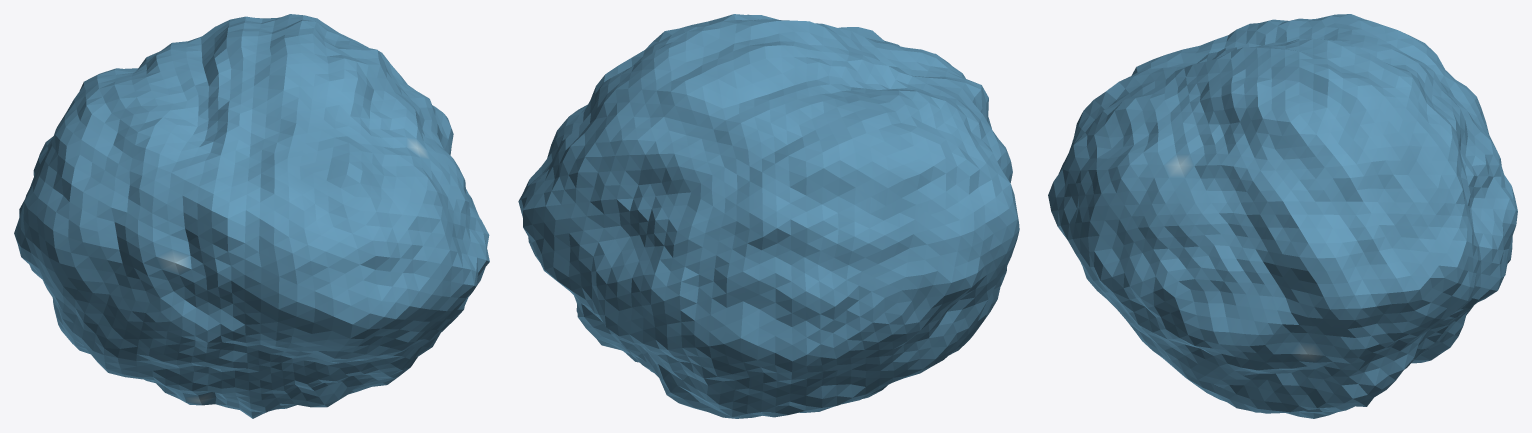
Rendered from egyptian-blue.glb.
3 renders of one model, left to right at view 1: azimuth 30°, elevation 25°; view 2: azimuth 150°, elevation 25°; view 3: azimuth 270°, elevation 25°, orthographic. The views are drawn at different scales.
Visible parts, largest first — view 1: geometry_0; view 2: geometry_0; view 3: geometry_0.
Boxes of the visible parts, x1,y1,x2,y2 form: geometry_0: (14, 14, 489, 418); geometry_0: (518, 14, 1019, 418); geometry_0: (1048, 14, 1517, 418).
Size of the model in its own units: 0.09 by 0.072 by 0.0888.
